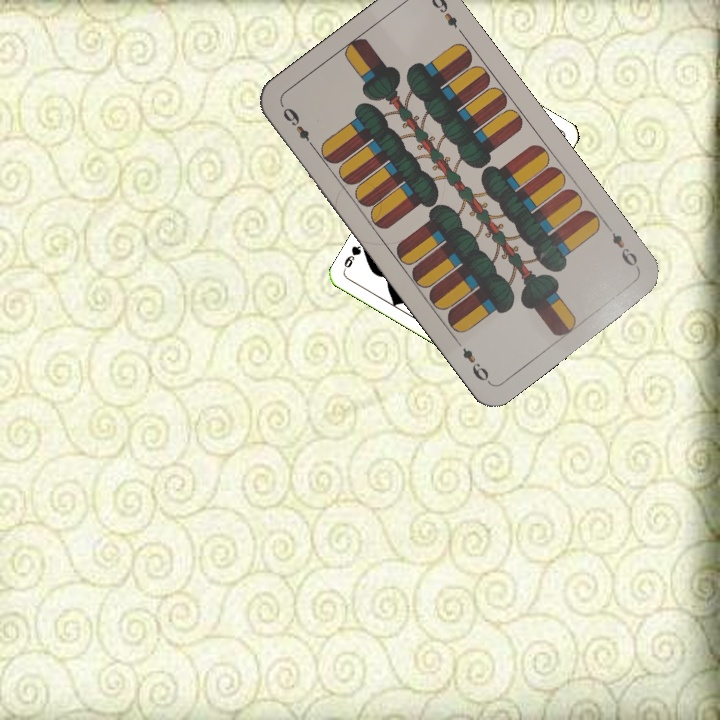E9: (277, 101, 318, 152), (607, 228, 640, 269)
